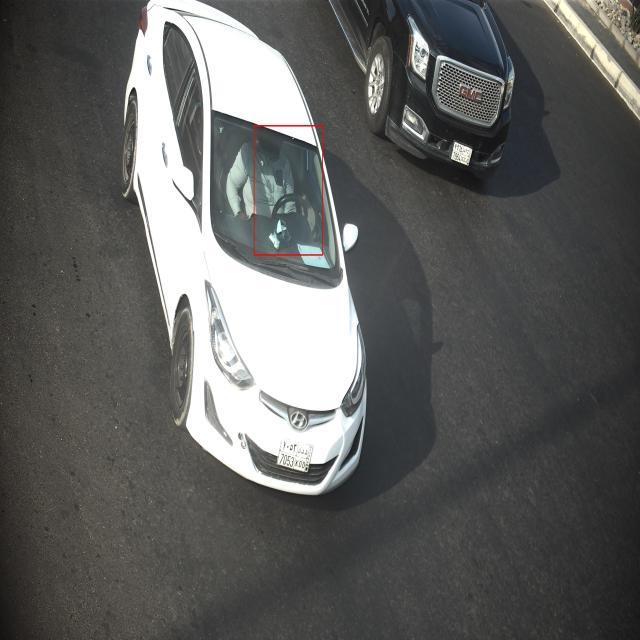windshield: (201, 105, 345, 288)
